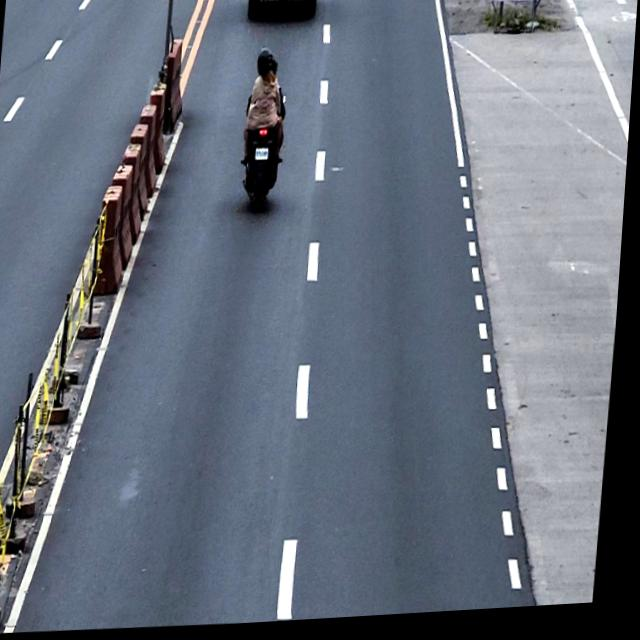License-Plate: (255, 148, 271, 165)
Motorcycle: (238, 89, 290, 215)
